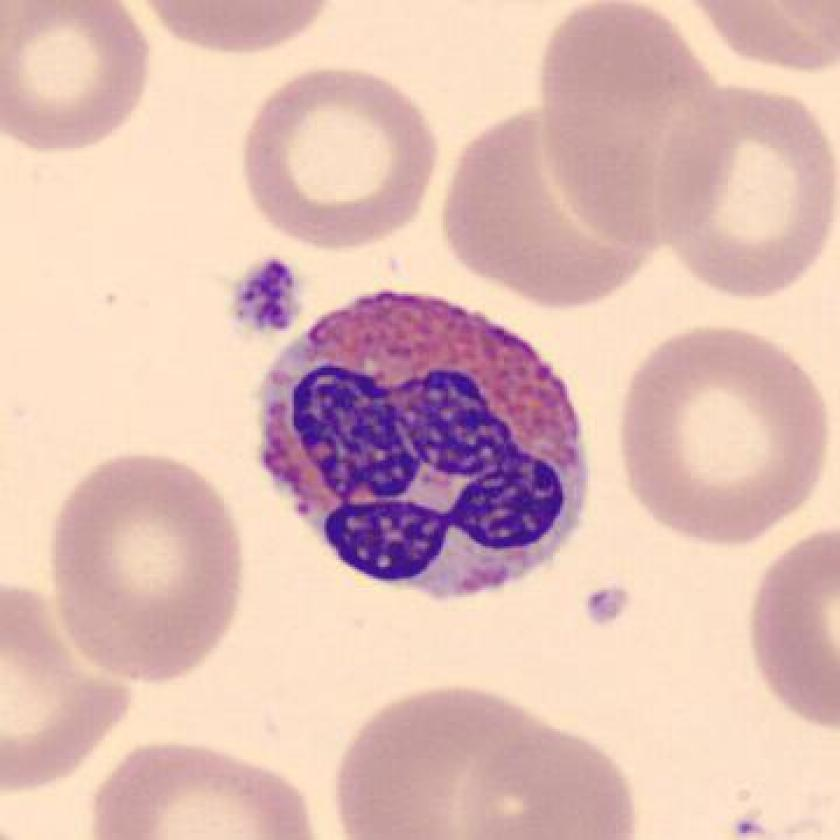eosinophil: (248, 277, 596, 608)
